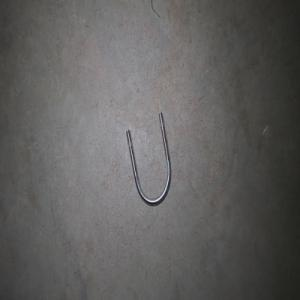ClampPart: (125, 110, 171, 206)
